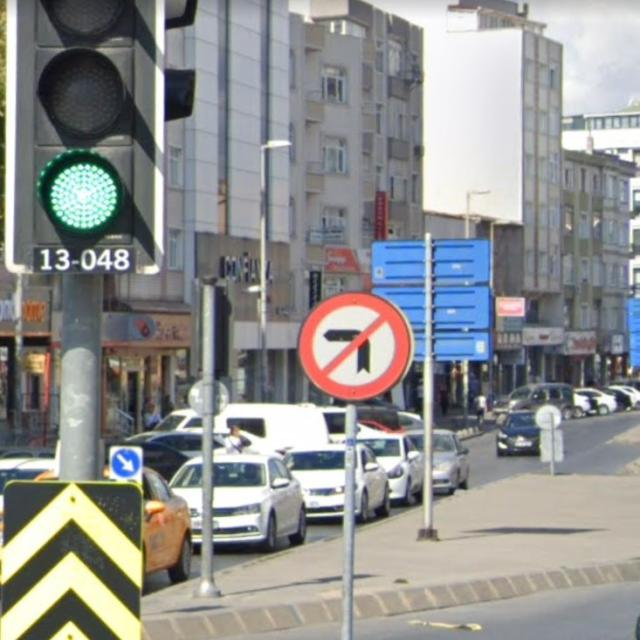soladonulmez: (299, 291, 409, 400)
yesil: (7, 1, 162, 269)
